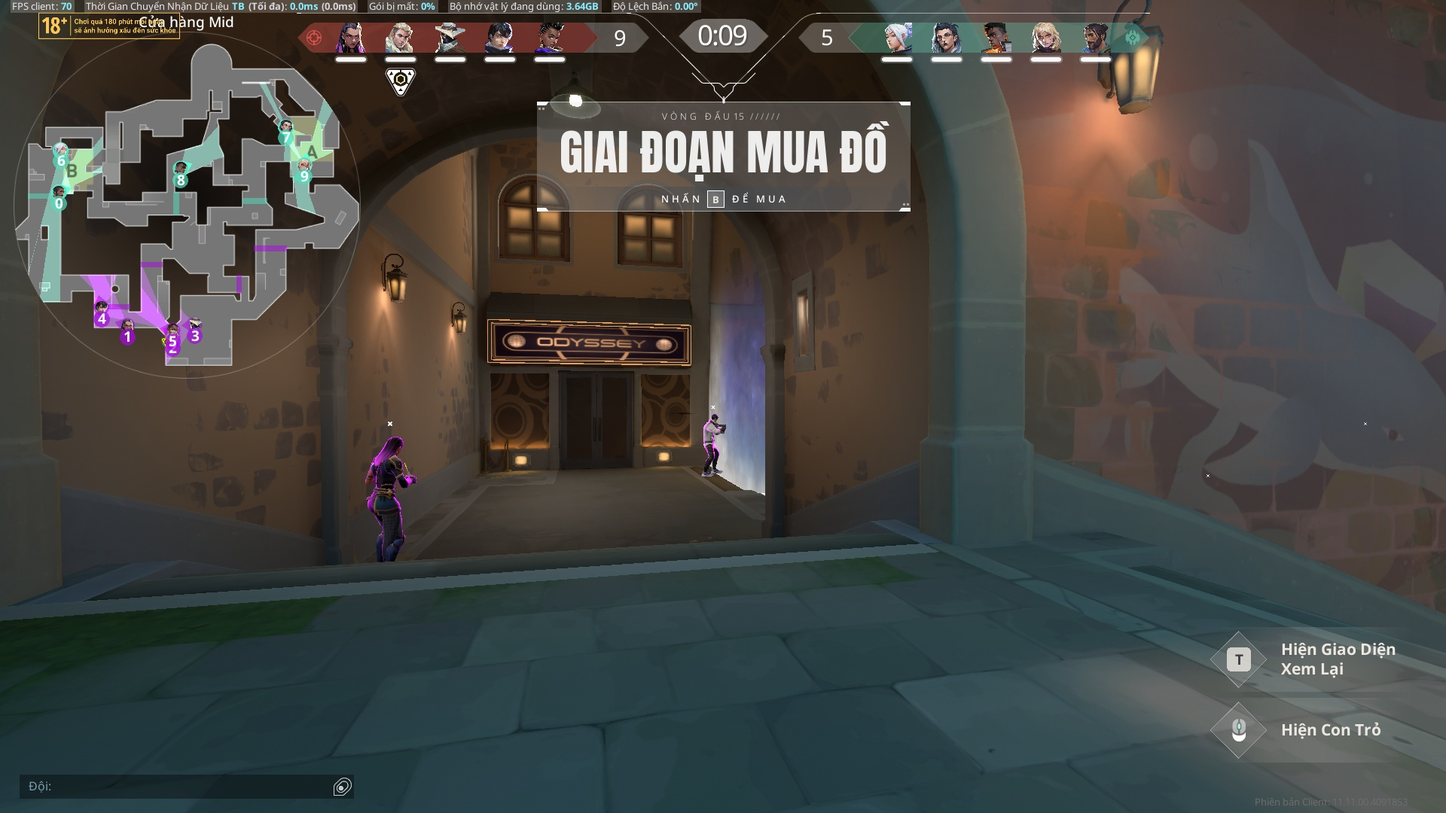body: (368, 451, 404, 492), (700, 419, 716, 443)
head: (386, 434, 406, 457), (710, 413, 718, 422)
